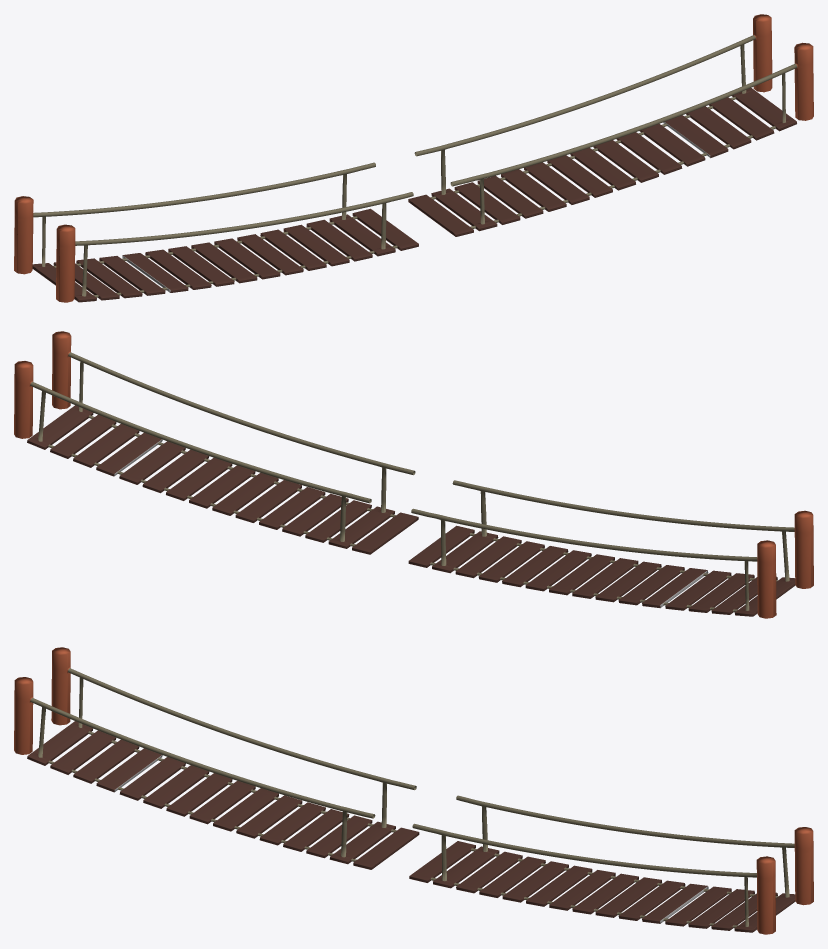
Rendered from Bridge seperated.fbx.
3 views of the same model, one above another, from view 1: azimuth 30°, elevation 25°; view 2: azimuth 150°, elevation 25°; view 3: azimuth 330°, elevation 25° (orthographic).
Parts seen in each view (by area): view 1: Bridge_end, Bridge_start; view 2: Bridge_end, Bridge_start; view 3: Bridge_start, Bridge_end.
Boxes of the visible parts, left/top/right/bottom form: Bridge_end: left=408, top=14, right=813, bottom=236; Bridge_start: left=14, top=162, right=418, bottom=302; Bridge_end: left=14, top=331, right=418, bottom=554; Bridge_start: left=408, top=480, right=813, bottom=618; Bridge_start: left=14, top=647, right=419, bottom=869; Bridge_end: left=409, top=795, right=813, bottom=934.
Bounding box in the file's own units: 973 × 125 × 114.
